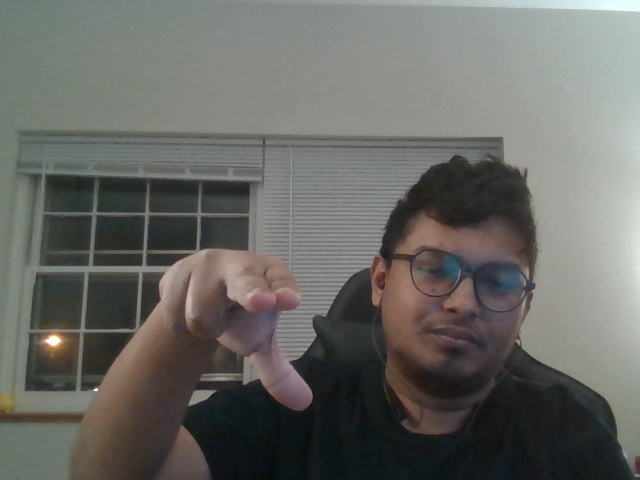no: (139, 234, 333, 423)
